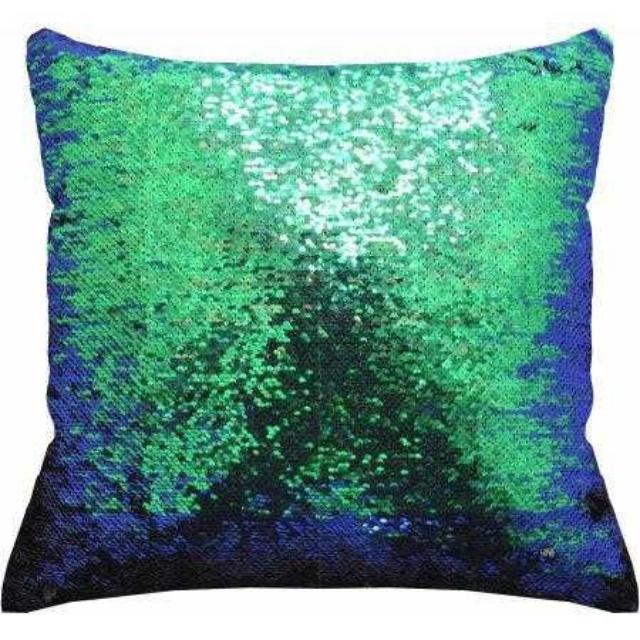pillow: (0, 23, 638, 614)
